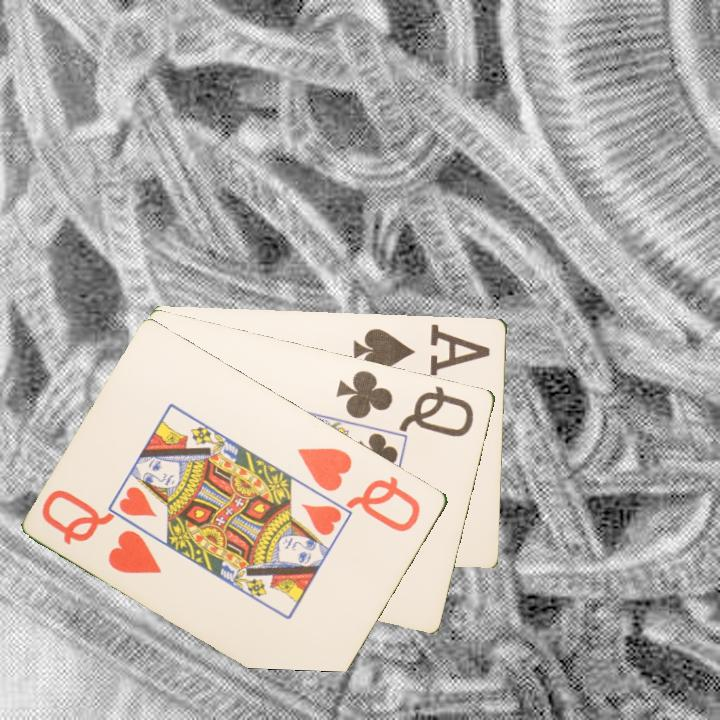As: (350, 324, 480, 375)
Qc: (333, 366, 477, 440)
Qh: (294, 443, 425, 535), (38, 485, 166, 577)
